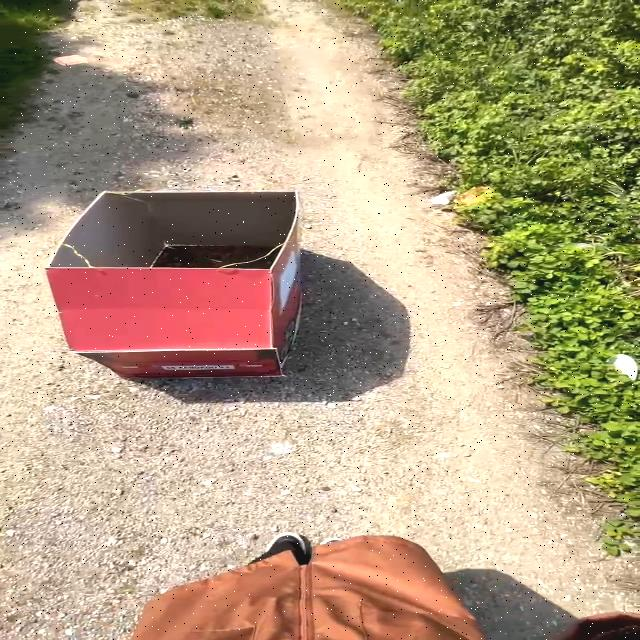red_car: (34, 179, 314, 411)
